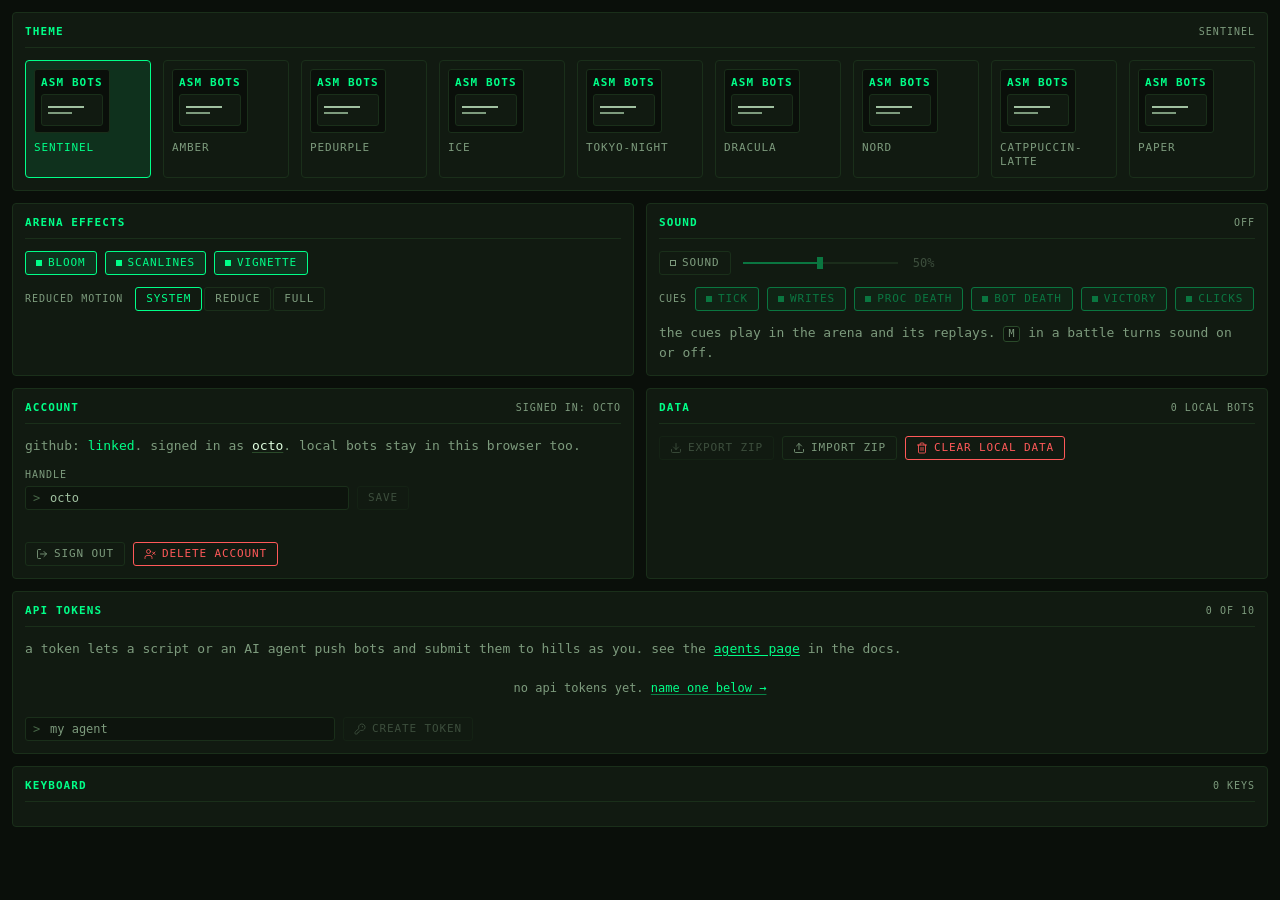
Test: the api tokens panel › shows why the API refused a token
Type "one more" into the field named "token name".
click(180, 729); type("one more")  # box x1=25 y1=717 x2=335 y2=741
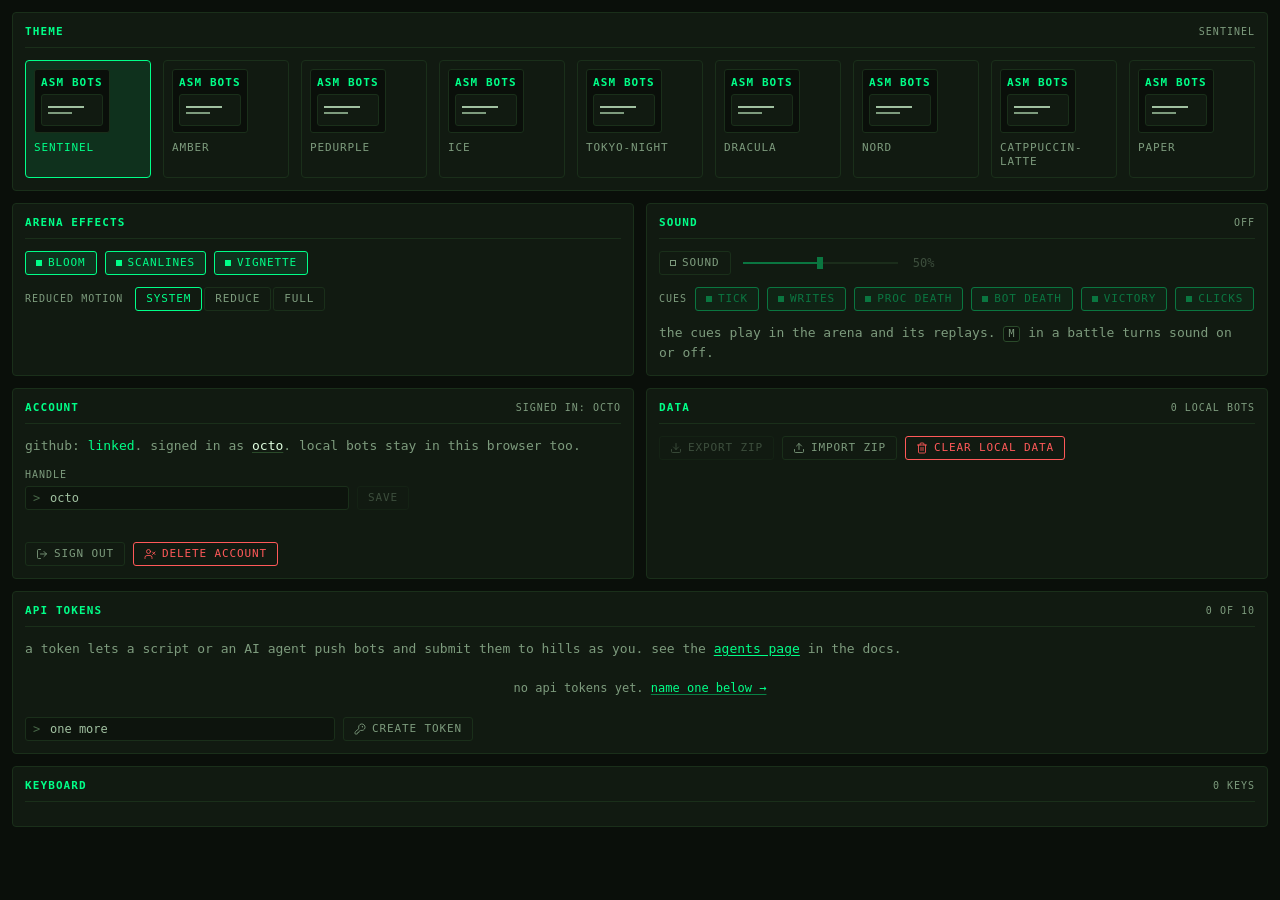
Click the button "create token".
click(408, 729)  # box x1=343 y1=717 x2=473 y2=741
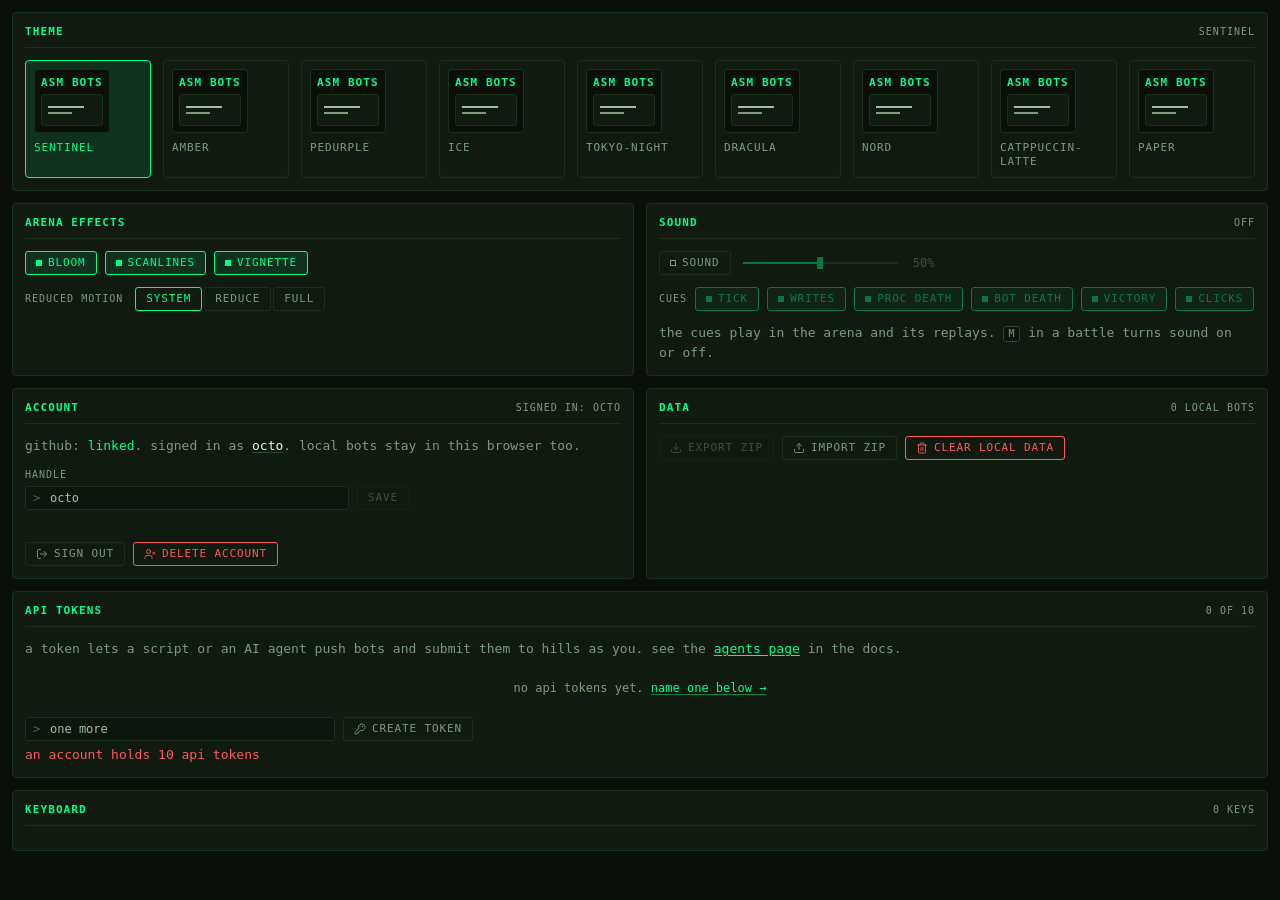
Expected: the message "an account holds 10 api tokens" is shown, x1=25 y1=747 x2=260 y2=762
